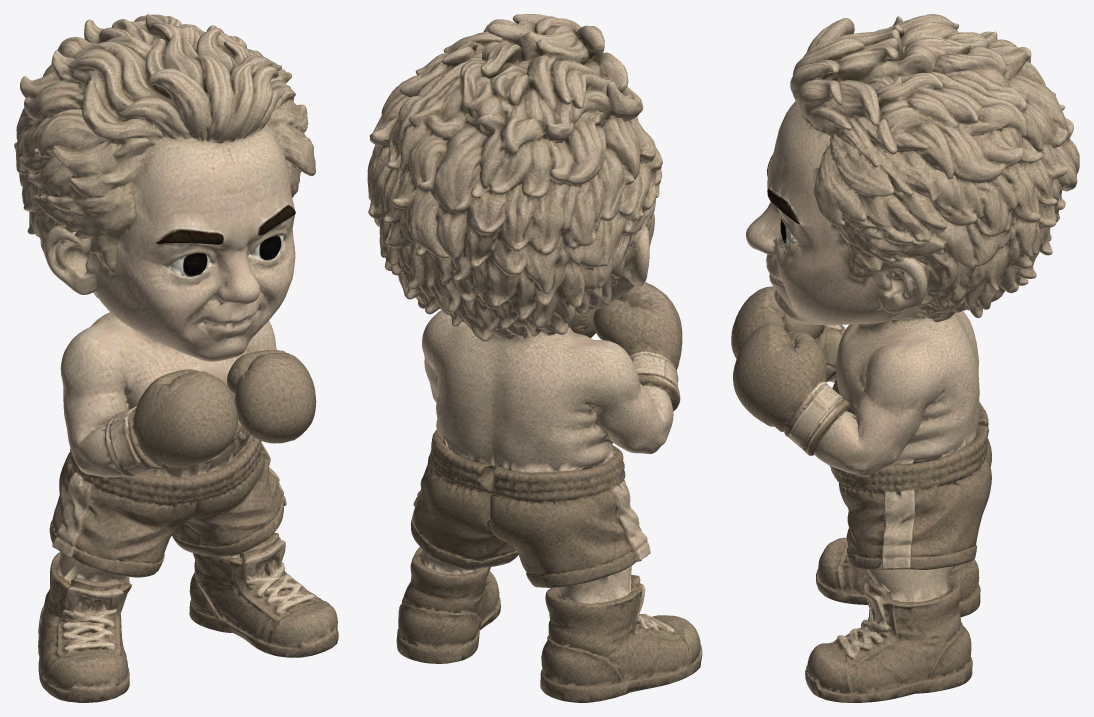
Rendered from boss-west.glb.
3 renders of one model, left to right at view 1: azimuth 30°, elevation 25°; view 2: azimuth 150°, elevation 25°; view 3: azimuth 270°, elevation 25°, orthographic.
Size of the model in its own units: 0.9058 by 1.9 by 0.9875.
Materials: 1 (1 with a texture image).
